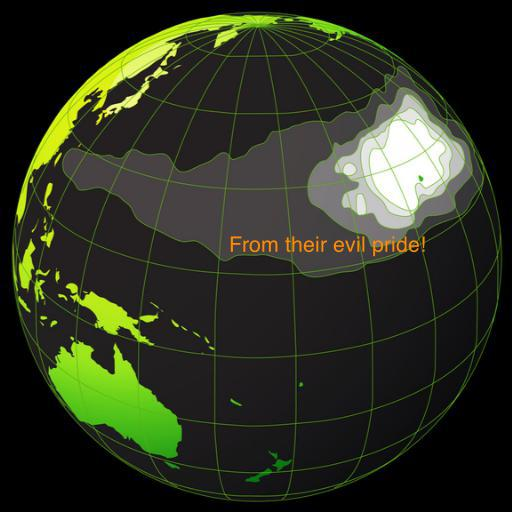Apple Chancery: (228, 236, 426, 257)
